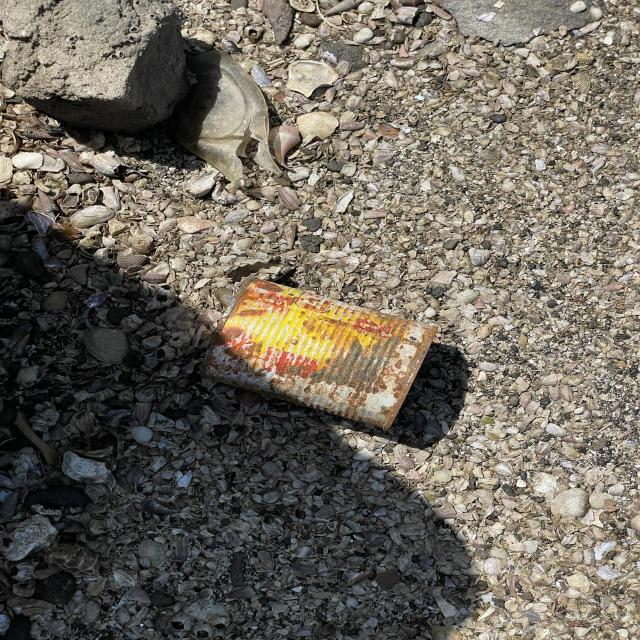metal_waste: (204, 277, 438, 430)
